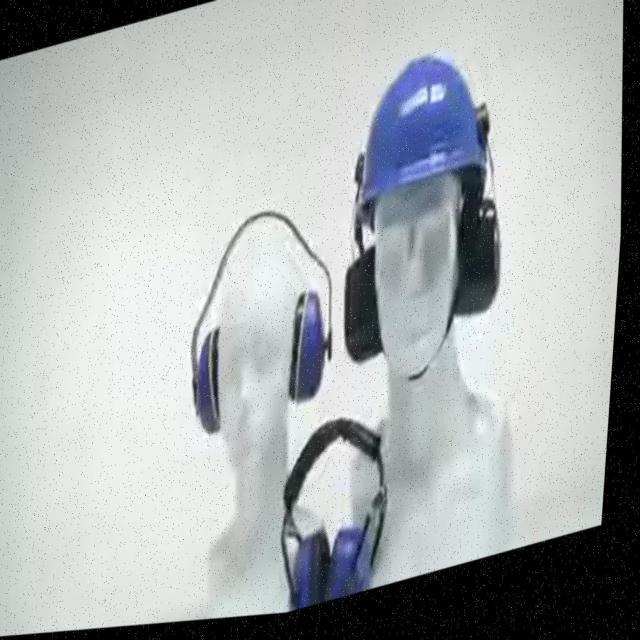Earmuffs: (191, 212, 331, 433), (345, 153, 382, 362), (451, 172, 500, 317), (475, 104, 495, 192)
Hardhat: (360, 59, 485, 205)
